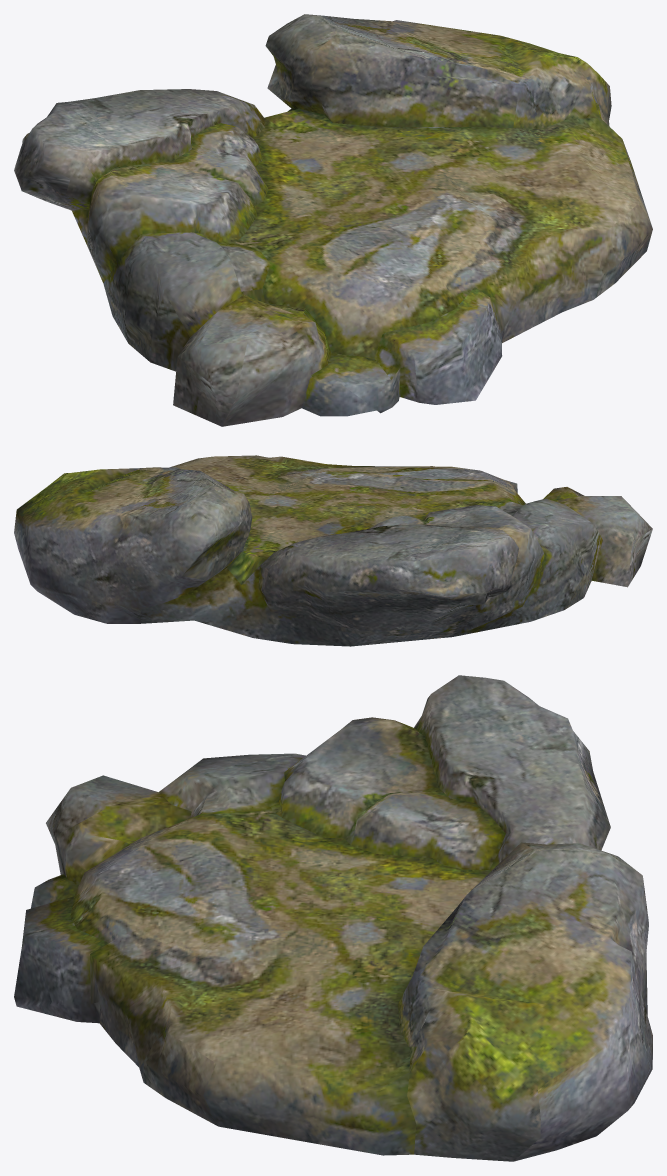
File: m_shitou_012.FBX
The picture shows the model from 3 angles, top to bottom: view 1: azimuth 30°, elevation 25°; view 2: azimuth 150°, elevation 25°; view 3: azimuth 270°, elevation 25°; orthographic projection. The views are drawn at different scales.
Visible parts, largest first — view 1: m_shitou_012; view 2: m_shitou_012; view 3: m_shitou_012.
Boxes of the visible parts, x1=… form: m_shitou_012: x1=14, y1=14, x2=652, y2=426; m_shitou_012: x1=14, y1=455, x2=652, y2=646; m_shitou_012: x1=14, y1=675, x2=652, y2=1161.
Size of the model in its own units: 335 by 97.98 by 274.
